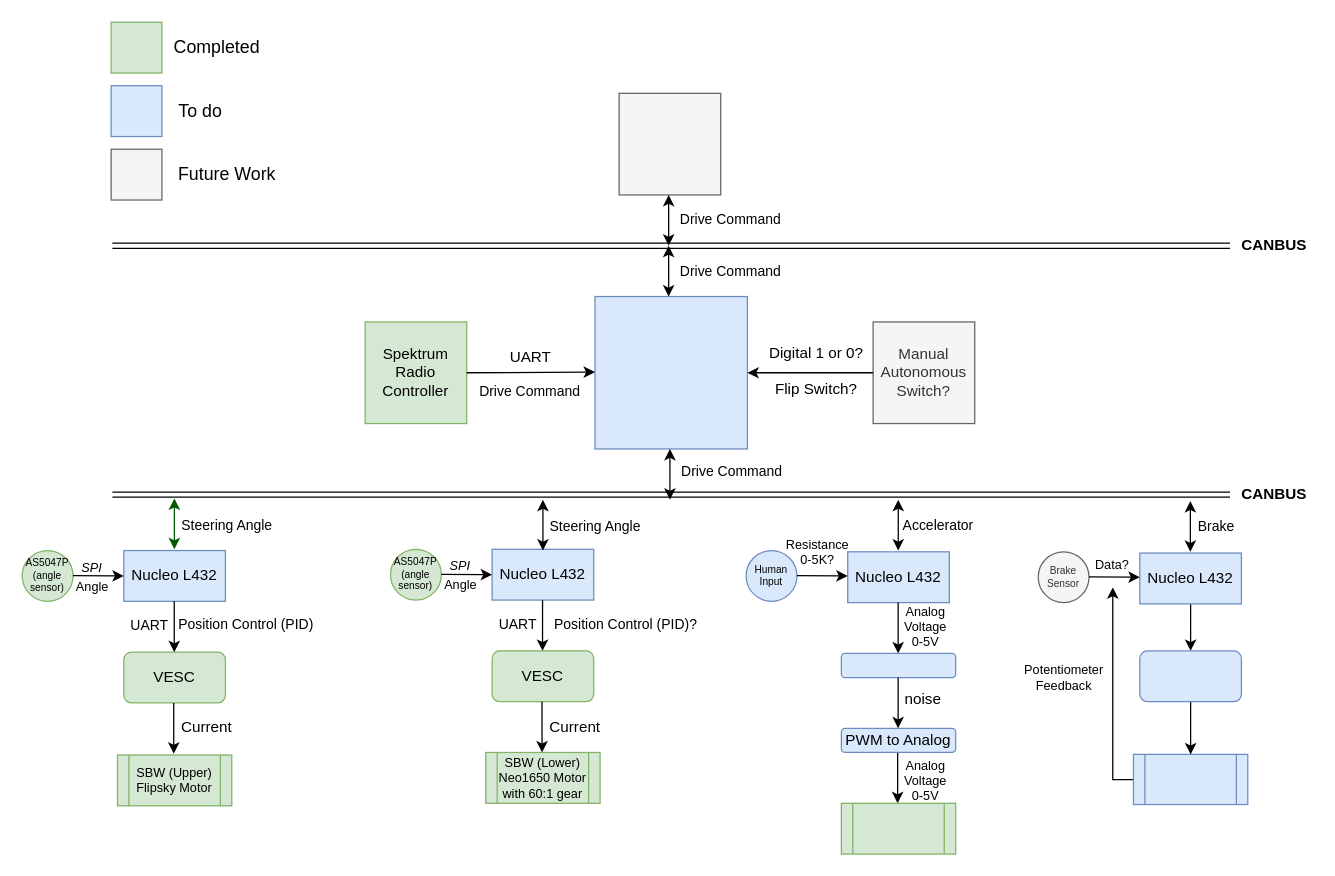
Image size: 1335x876. Some labels were removed from this diagram. The shapes that lost their labels are listed below. From the top down, each one's centre as x and y in pixels, then its label:
[669,143]: ROS Cube
[670,372]: Nucleo F439zi (main controller)
[898,665]: Analog to PWM
[1190,676]: DC Motor Driver
[1190,779]: Linear Actuator
[898,828]: Alltrax SR48300 Controller
